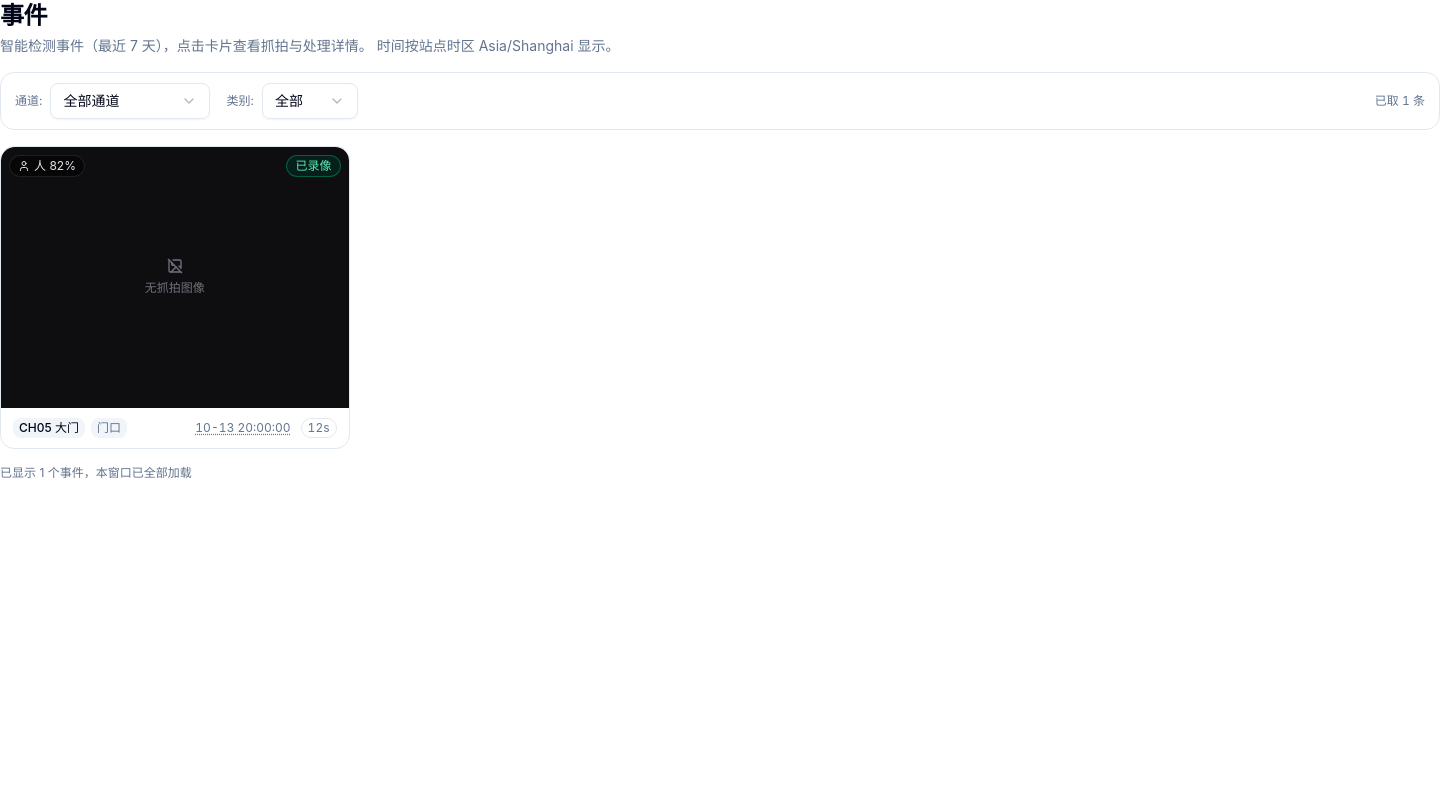
Test: the drawer says what happened to the alert, including a refusal
Click the button with test id "event-card".
click(175, 297)  # box [0,146,350,449]
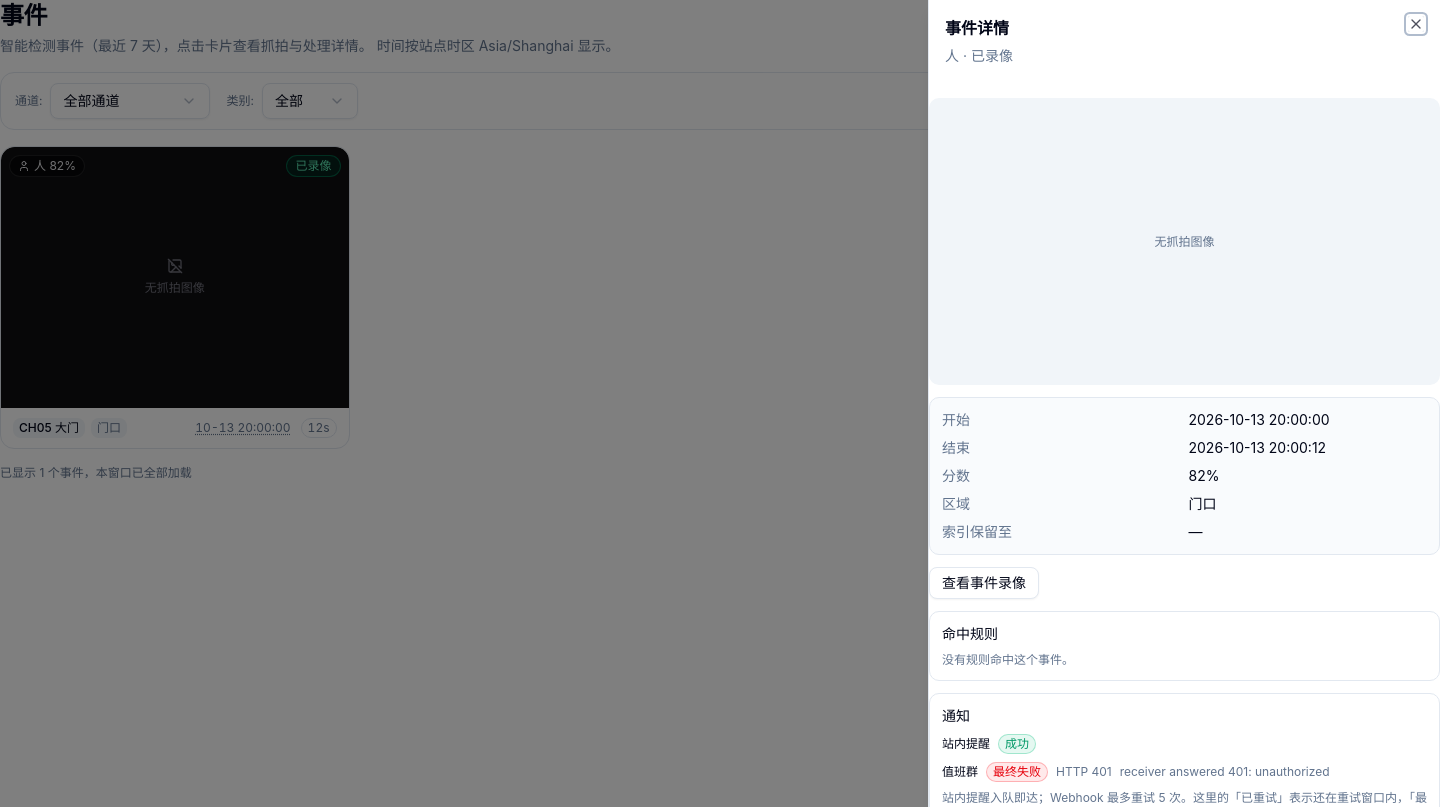
Expected: the text "站内提醒" is shown, [942,736,990,752]
Expected: the text "成功" is shown, [998,734,1036,754]
Expected: the text "最终失败" is shown, [986,762,1048,782]
